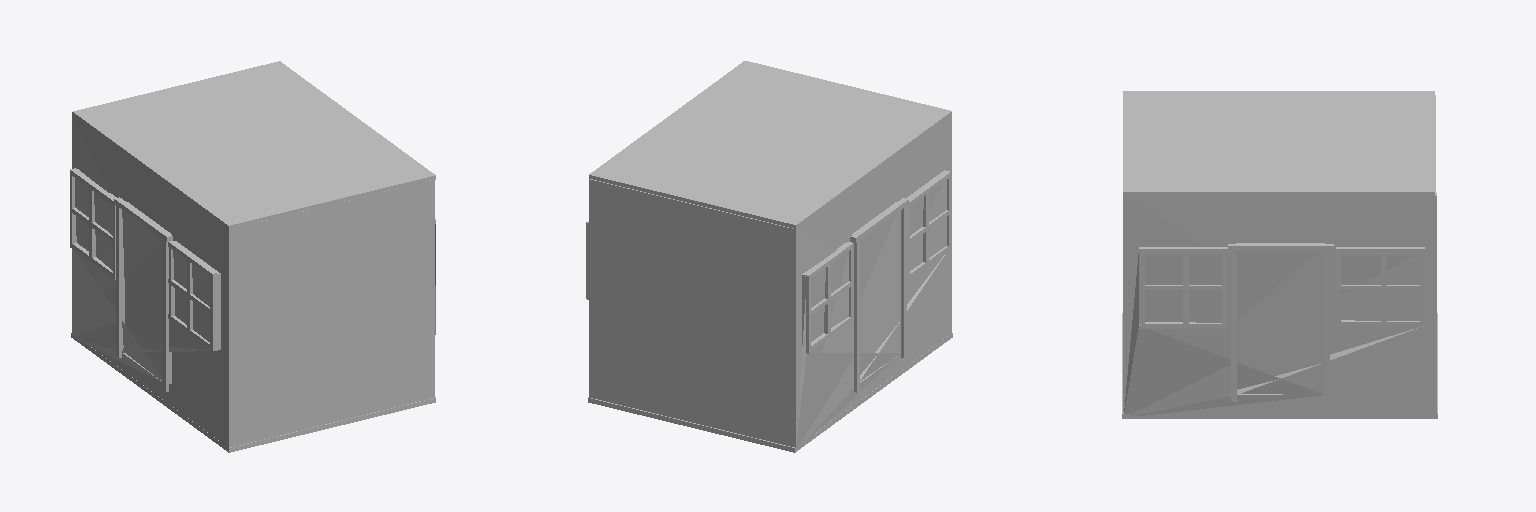
Rendered from cas.obj.
3 renders of one model, left to right at view 1: azimuth 30°, elevation 25°; view 2: azimuth 150°, elevation 25°; view 3: azimuth 270°, elevation 25°, orthographic.
Parts seen in each view (by area): view 1: pasted__pCube2 group2, polySurface14 pasted__pCube1 group4, polySurface16 group44_pasted__group1_pasted__pCube2_pasted__poly, pCube1, pasted__pasted__pasted__pasted__pasted__pasted__pCube9 pasted__p, pasted__pasted__pasted__pasted__pasted__pasted__pasted__pCube9 p, polySurface18, group61 pasted__pasted__pCube10 pasted__group59, group61 pasted__pasted__pasted__pCube10 pasted__pasted__group59 , pasted__pasted__pasted__pasted__pasted__pCube9 pasted__pasted__p, pasted__pCube10 group61; view 2: polySurface12 pasted__pasted__pCube2 pasted__group2 group3, polySurface14 pasted__pCube1 group4, polySurface16 group44_pasted__group1_pasted__pCube2_pasted__poly, pCube1, polySurface18, pasted__pasted__pasted__pasted__pasted__pasted__pCube9 pasted__p, pasted__pasted__pasted__pasted__pasted__pasted__pasted__pCube9 p, group61 pasted__pasted__pCube10 pasted__group59, group61 pasted__pasted__pasted__pCube10 pasted__pasted__group59 , pasted__pasted__pasted__pasted__pasted__pCube9 pasted__pasted__p, pasted__pasted__pasted__pasted__pCube9 pasted__pasted__pasted__g, pasted__pCube10 group61; view 3: polySurface18, polySurface14 pasted__pCube1 group4, pCube1, pasted__pasted__pasted__pasted__pasted__pCube9 pasted__pasted__p, pasted__pasted__pasted__pasted__pCube9 pasted__pasted__pasted__g, pasted__pasted__pCube10 pasted__group59 group60, pasted__pasted__pasted__pCube9 pasted__pasted__group45 pasted__g, pasted__pCube10 group59, pCube10.
Boxes of the visible parts, <box> form: pasted__pCube2 group2: <box>234,180,430,446</box>; polySurface14 pasted__pCube1 group4: <box>72,61,435,229</box>; polySurface16 group44_pasted__group1_pasted__pCube2_pasted__poly: <box>72,116,233,447</box>; pCube1: <box>71,333,435,452</box>; pasted__pasted__pasted__pasted__pasted__pasted__pCube9 pasted__p: <box>70,168,214,351</box>; pasted__pasted__pasted__pasted__pasted__pasted__pasted__pCube9 p: <box>70,241,216,320</box>; polySurface18: <box>431,180,435,397</box>; group61 pasted__pasted__pCube10 pasted__group59: <box>116,205,121,357</box>; group61 pasted__pasted__pasted__pCube10 pasted__pasted__group59 : <box>163,240,168,391</box>; pasted__pasted__pasted__pasted__pasted__pCube9 pasted__pasted__p: <box>113,204,435,334</box>; pasted__pCube10 group61: <box>114,197,172,241</box>; polySurface12 pasted__pasted__pCube2 pasted__group2 group3: <box>595,180,790,446</box>; polySurface14 pasted__pCube1 group4: <box>589,61,951,229</box>; polySurface16 group44_pasted__group1_pasted__pCube2_pasted__poly: <box>791,116,951,449</box>; pCube1: <box>588,333,952,452</box>; polySurface18: <box>586,179,594,398</box>; pasted__pasted__pasted__pasted__pasted__pasted__pCube9 pasted__p: <box>803,177,950,353</box>; pasted__pasted__pasted__pasted__pasted__pasted__pasted__pCube9 p: <box>811,171,950,350</box>; group61 pasted__pasted__pCube10 pasted__group59: <box>854,240,859,392</box>; group61 pasted__pasted__pasted__pCube10 pasted__pasted__group59 : <box>901,206,906,357</box>; pasted__pasted__pasted__pasted__pasted__pCube9 pasted__pasted__p: <box>849,190,928,321</box>; pasted__pasted__pasted__pasted__pCube9 pasted__pasted__pasted__g: <box>586,223,830,337</box>; pasted__pCube10 group61: <box>850,198,908,242</box>; polySurface18: <box>1124,193,1436,415</box>; polySurface14 pasted__pCube1 group4: <box>1123,91,1434,196</box>; pCube1: <box>1122,313,1437,418</box>; pasted__pasted__pasted__pasted__pasted__pCube9 pasted__pasted__p: <box>1140,247,1424,325</box>; pasted__pasted__pasted__pasted__pCube9 pasted__pasted__pasted__g: <box>1140,250,1424,328</box>; pasted__pasted__pCube10 pasted__group59 group60: <box>1231,251,1236,401</box>; pasted__pasted__pasted__pCube9 pasted__pasted__group45 pasted__g: <box>1222,250,1386,325</box>; pasted__pCube10 group59: <box>1325,251,1329,401</box>; pCube10: <box>1228,244,1333,250</box>.
Size of the model in its own units: 6.71 by 6.33 by 7.98.